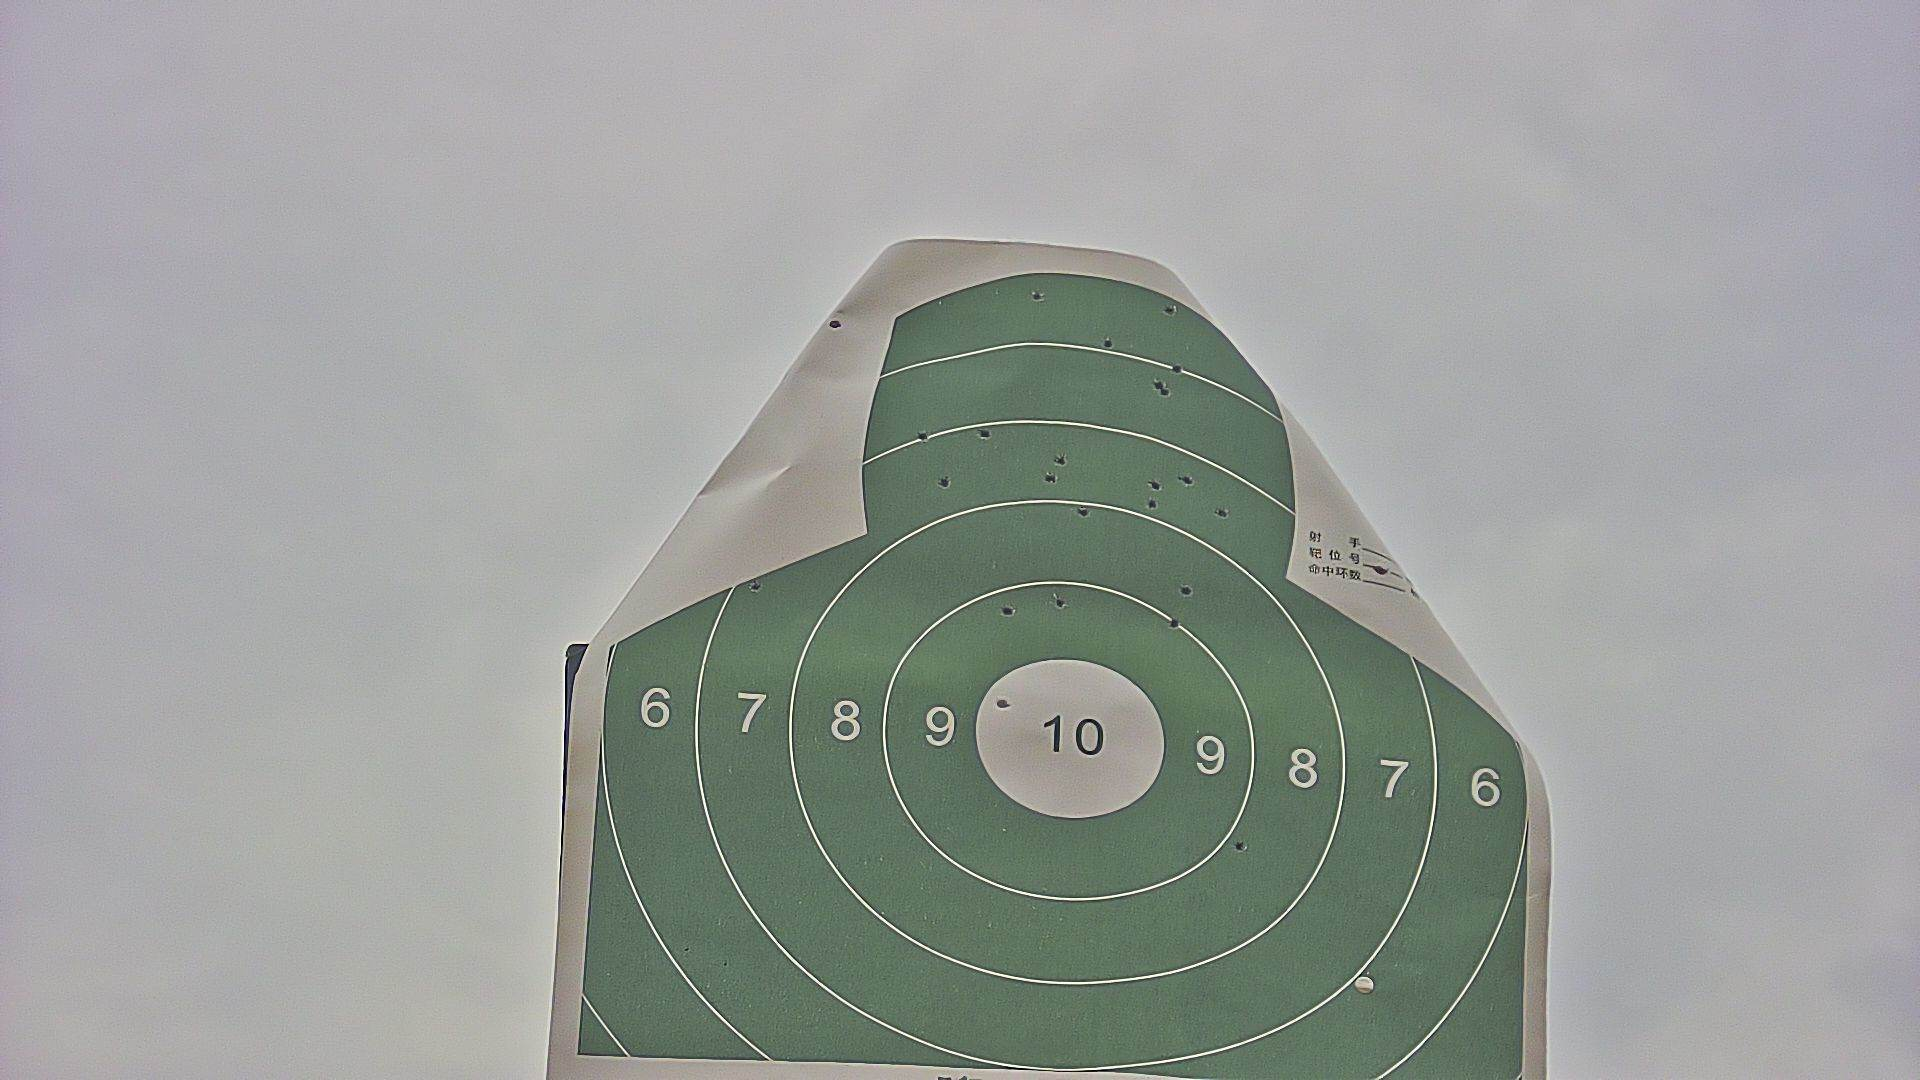hole: (1073, 502, 1091, 518), (1054, 593, 1068, 611), (1001, 603, 1015, 618), (993, 696, 1010, 709), (1178, 583, 1196, 595), (938, 475, 951, 491), (1054, 451, 1067, 467), (1044, 469, 1058, 485), (1168, 615, 1180, 632), (1031, 290, 1046, 303), (1149, 479, 1164, 491), (749, 579, 762, 592), (916, 429, 927, 443), (1170, 363, 1182, 375), (1215, 506, 1226, 518), (978, 426, 992, 436), (1236, 837, 1246, 851), (1163, 303, 1178, 313), (1154, 377, 1164, 389), (1146, 497, 1156, 509), (1160, 386, 1170, 398), (1182, 476, 1193, 485), (1104, 338, 1114, 347)
kernel: (1067, 735, 1071, 736)
target: (582, 274, 1534, 1080)
ten: (977, 655, 1164, 816)
